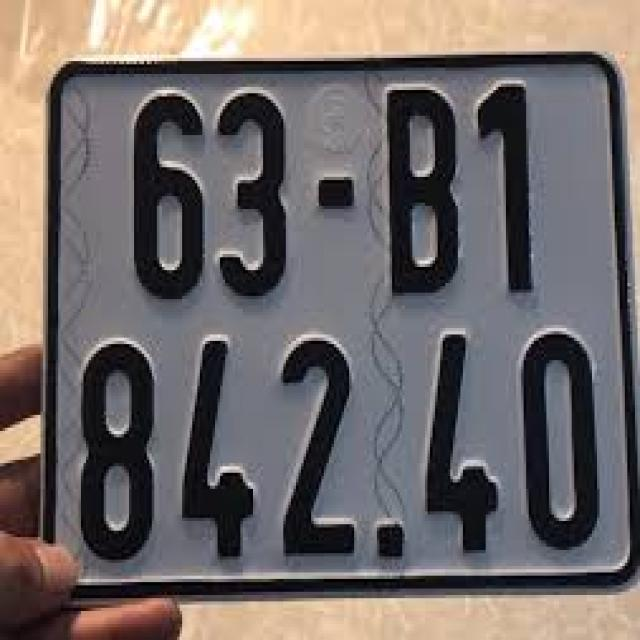a: (46, 50, 640, 584)
bien so: (52, 56, 632, 589)
